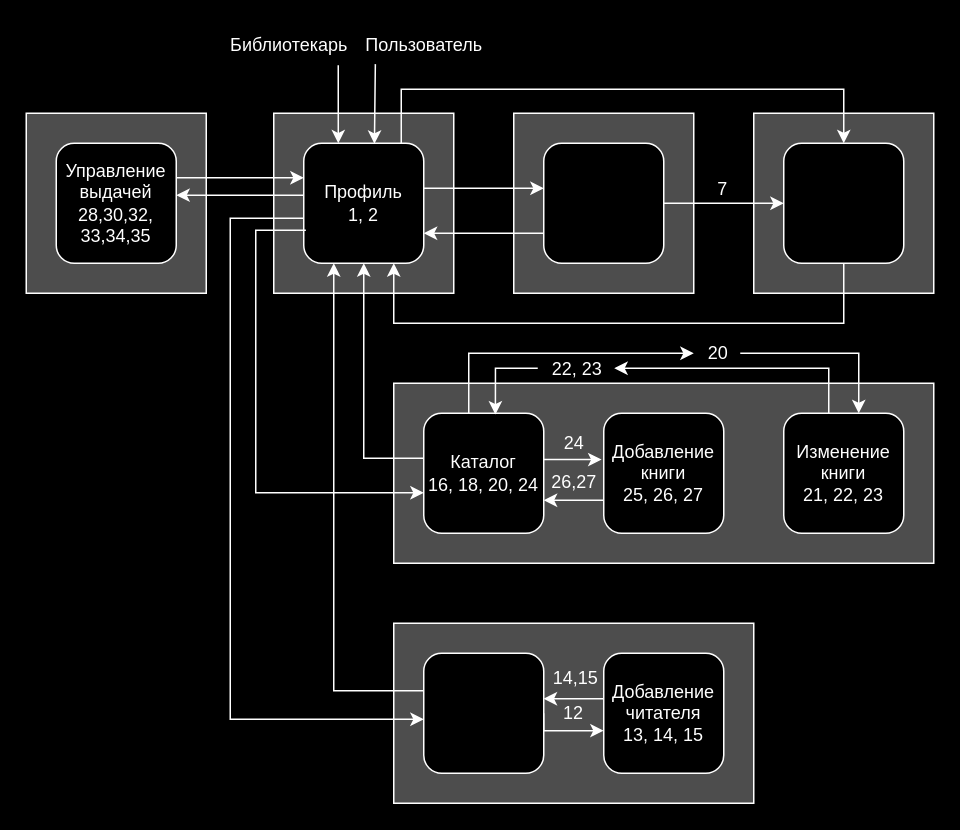
Some shapes in this 960 by 830 pixel diagram are drawn without their labels. Each missing label, with the centre of its shape:
Библиотека 3, 5, 7: (x=603, y=202)
Формуляр 8: (x=843, y=202)
Читатели 9, 11, 12: (x=483, y=712)
